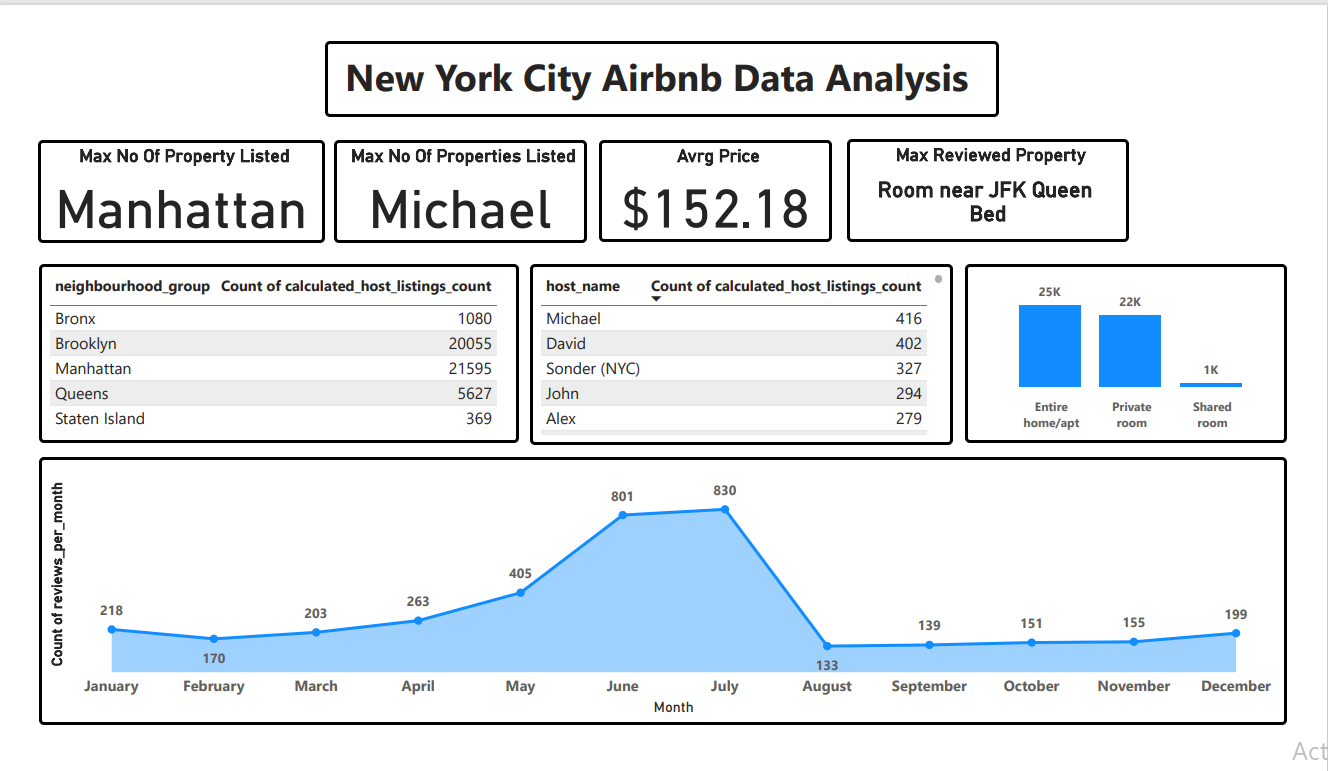

Layout of this report page (visuals, bound fields, positions):
{"tool":"powerbi","page":{"name":"OverView","canvas":[1280,720],"ordinal":0},"visuals":[{"type":"textbox","box":[301.9,12.3,673.8,75.5],"z":0},{"type":"card","title":"Max No Of Property Listed","fields":{"Values":["Min(AB_NYC_2019.neighbourhood_group)"]},"box":[15.1,111.1,286.8,102.9],"z":1000},{"type":"card","title":"Max No Of Properties Listed","fields":{"Values":["Min(AB_NYC_2019.host_name)"]},"box":[311.5,111.1,252.5,102.9],"z":2000},{"type":"tableEx","fields":{"Values":["AB_NYC_2019.neighbourhood_group","CountNonNull(AB_NYC_2019.calculated_host_listings_count)"]},"box":[15.9,234.8,479.7,179.7],"z":3000},{"type":"tableEx","fields":{"Values":["AB_NYC_2019.host_name","CountNonNull(AB_NYC_2019.calculated_host_listings_count)"]},"box":[507.2,234.8,423.2,181.2],"z":4000},{"type":"card","title":"Avrg Price","fields":{"Values":["Avg(AB_NYC_2019.price)"]},"box":[576.5,110.6,232.9,102.4],"z":5000},{"type":"card","title":"Max Reviewed Property","fields":{"Values":["Min(AB_NYC_2019.name)"]},"box":[824.4,110.3,282.1,102.6],"z":6000},{"type":"areaChart","fields":{"Y":["Count(AB_NYC_2019.reviews_per_month)"],"Category":["AB_NYC_2019.last_review.Variation.Date Hierarchy.Month"]},"box":[15.9,427.5,1247.8,268.1],"z":7000},{"type":"columnChart","fields":{"Category":["AB_NYC_2019.room_type"],"Y":["CountNonNull(AB_NYC_2019.number_of_reviews)"]},"box":[942,234.8,321.7,179.7],"z":8000}]}

Visuals, with their boxes in screenshot pixels (x1, y1, x2, y2):
textbox: x1=322 y1=43 x2=987 y2=118
"Max No Of Property Listed" card: x1=39 y1=141 x2=322 y2=242
"Max No Of Properties Listed" card: x1=332 y1=141 x2=581 y2=242
tableEx - AB_NYC_2019.neighbourhood_group x CountNonNull(AB_NYC_2019.calculated_host_listings_count): x1=40 y1=263 x2=513 y2=440
tableEx - AB_NYC_2019.host_name x CountNonNull(AB_NYC_2019.calculated_host_listings_count): x1=525 y1=263 x2=942 y2=442
"Avrg Price" card: x1=593 y1=140 x2=823 y2=241
"Max Reviewed Property" card: x1=838 y1=140 x2=1116 y2=241
areaChart - Count(AB_NYC_2019.reviews_per_month) x AB_NYC_2019.last_review.Variation.Date Hierarchy.Month: x1=40 y1=453 x2=1271 y2=718
columnChart - AB_NYC_2019.room_type x CountNonNull(AB_NYC_2019.number_of_reviews): x1=954 y1=263 x2=1271 y2=440
